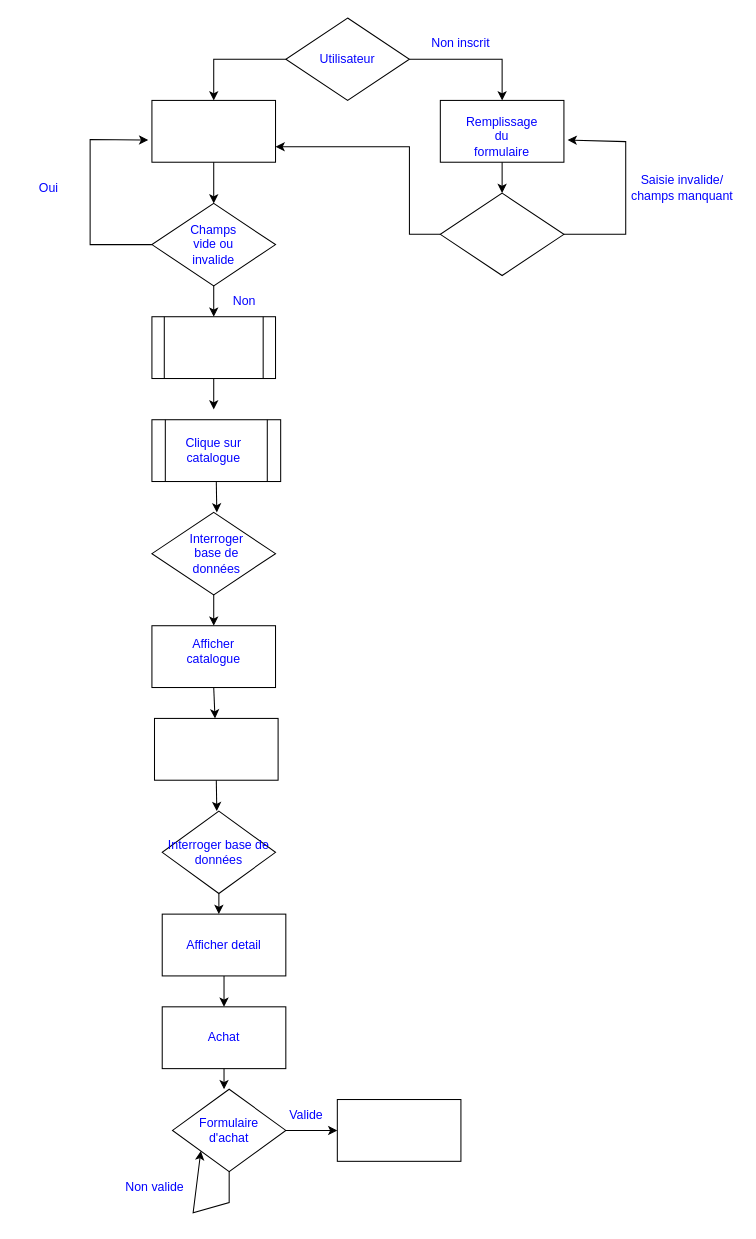
Some shapes in this 756 by 1239 pixel diagram are drawn without their labels. Each missing label, with the centre of its shape:
"Clique sur un article" belongs at point (215, 748).
"Confirmation de la commande" belongs at point (398, 1129).
"Connecter" belongs at point (213, 347).
"Saisie des identifiants" belongs at point (213, 130).
"Verification du formulaire" belongs at point (501, 234).
